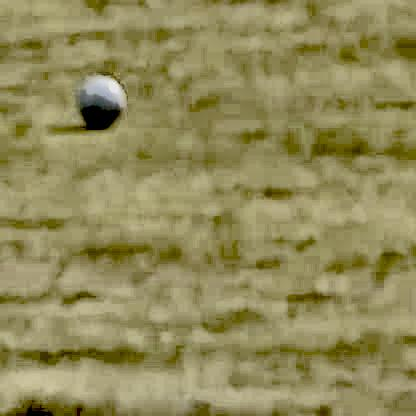golfball: (74, 72, 124, 123)
